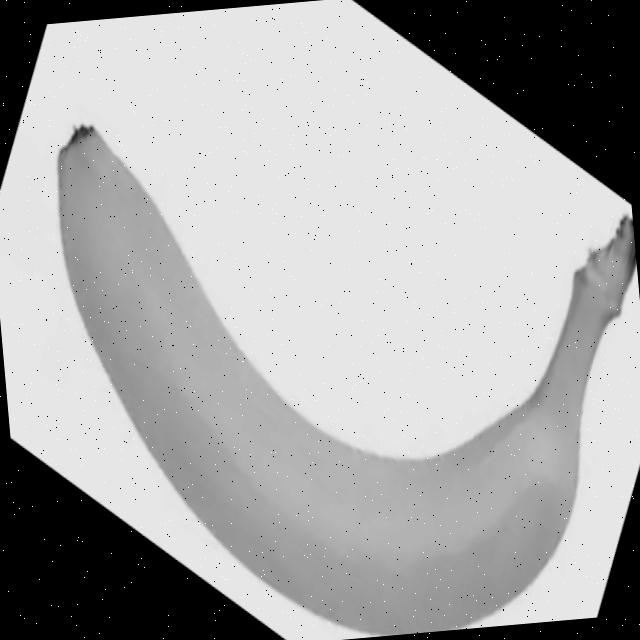Ripe: (46, 64, 640, 640)
